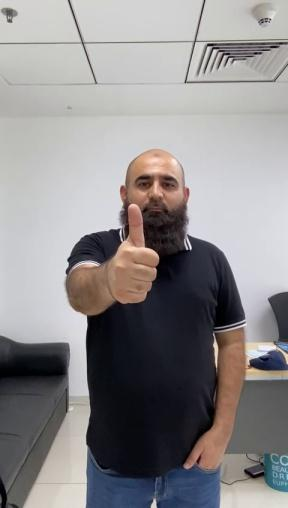thumbs-up: (107, 204, 162, 303)
